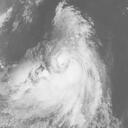cyclone: (36, 41, 95, 100)
